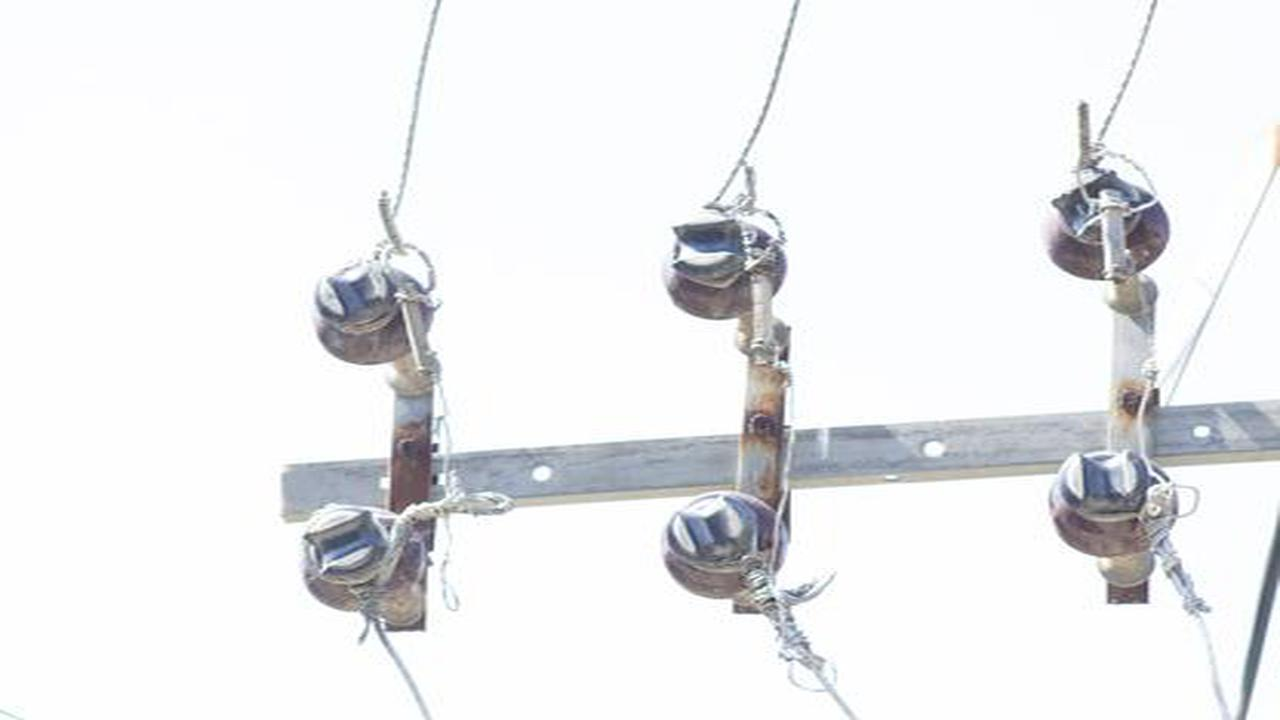insulator_pin: (649, 200, 792, 324), (651, 481, 790, 604), (1032, 166, 1173, 283), (1045, 442, 1179, 564), (307, 253, 444, 370), (298, 501, 427, 617)
